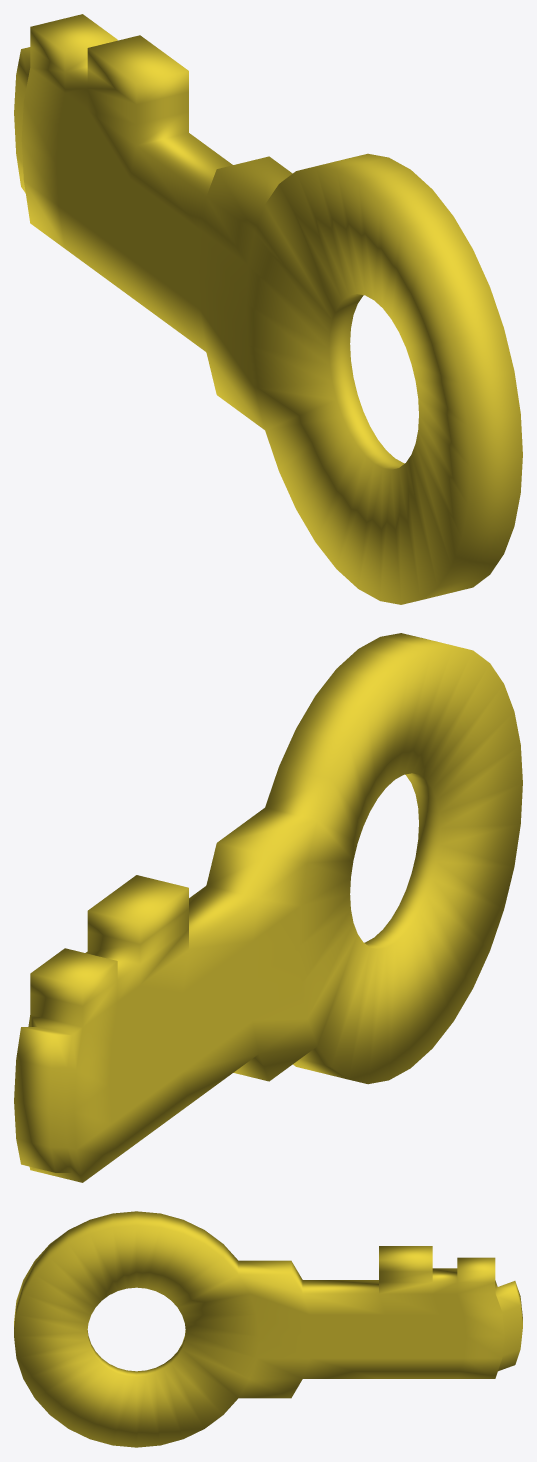
The model's file is key.fbx.
The picture shows the model from 3 angles, top to bottom: view 1: azimuth 30°, elevation 25°; view 2: azimuth 150°, elevation 25°; view 3: azimuth 270°, elevation 25°; orthographic projection. The views are drawn at different scales.
Visible parts, largest first — view 1: Circle; view 2: Circle; view 3: Circle.
Boxes of the visible parts, x1,y1,x2,y2 form: Circle: (14, 14, 522, 604); Circle: (14, 633, 522, 1182); Circle: (14, 1211, 522, 1447).
Size of the model in its own units: 27.06 by 200 by 415.
